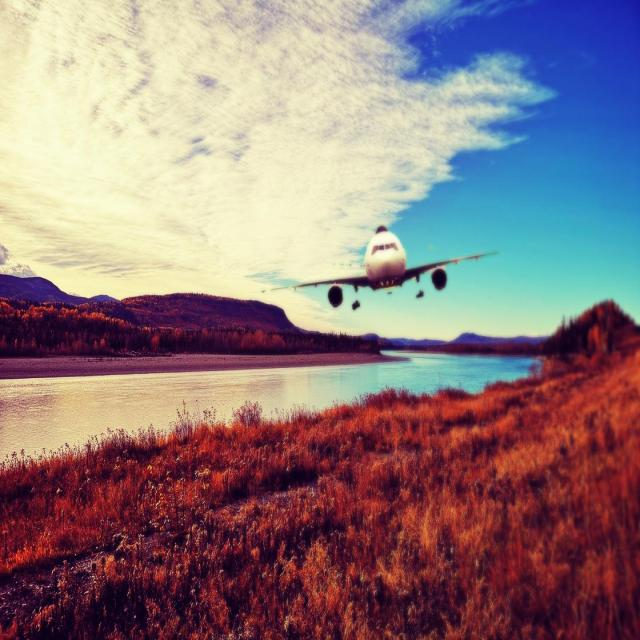airplane: (250, 224, 498, 310)
